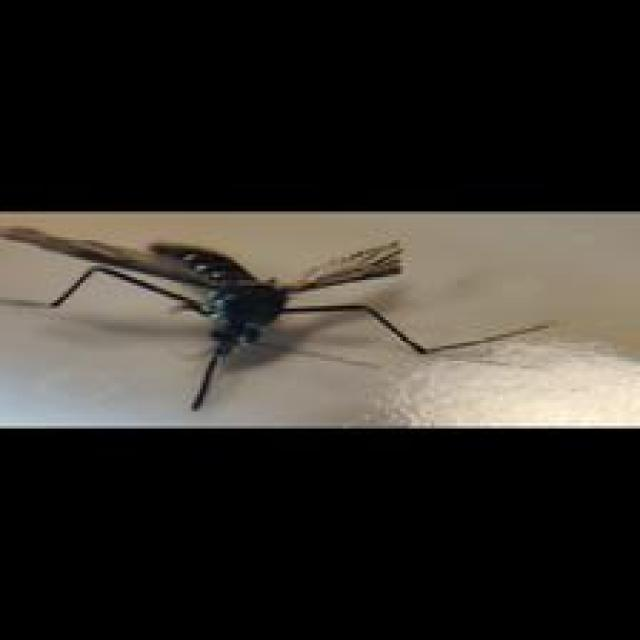Aedes albopictus: (0, 223, 429, 411)
